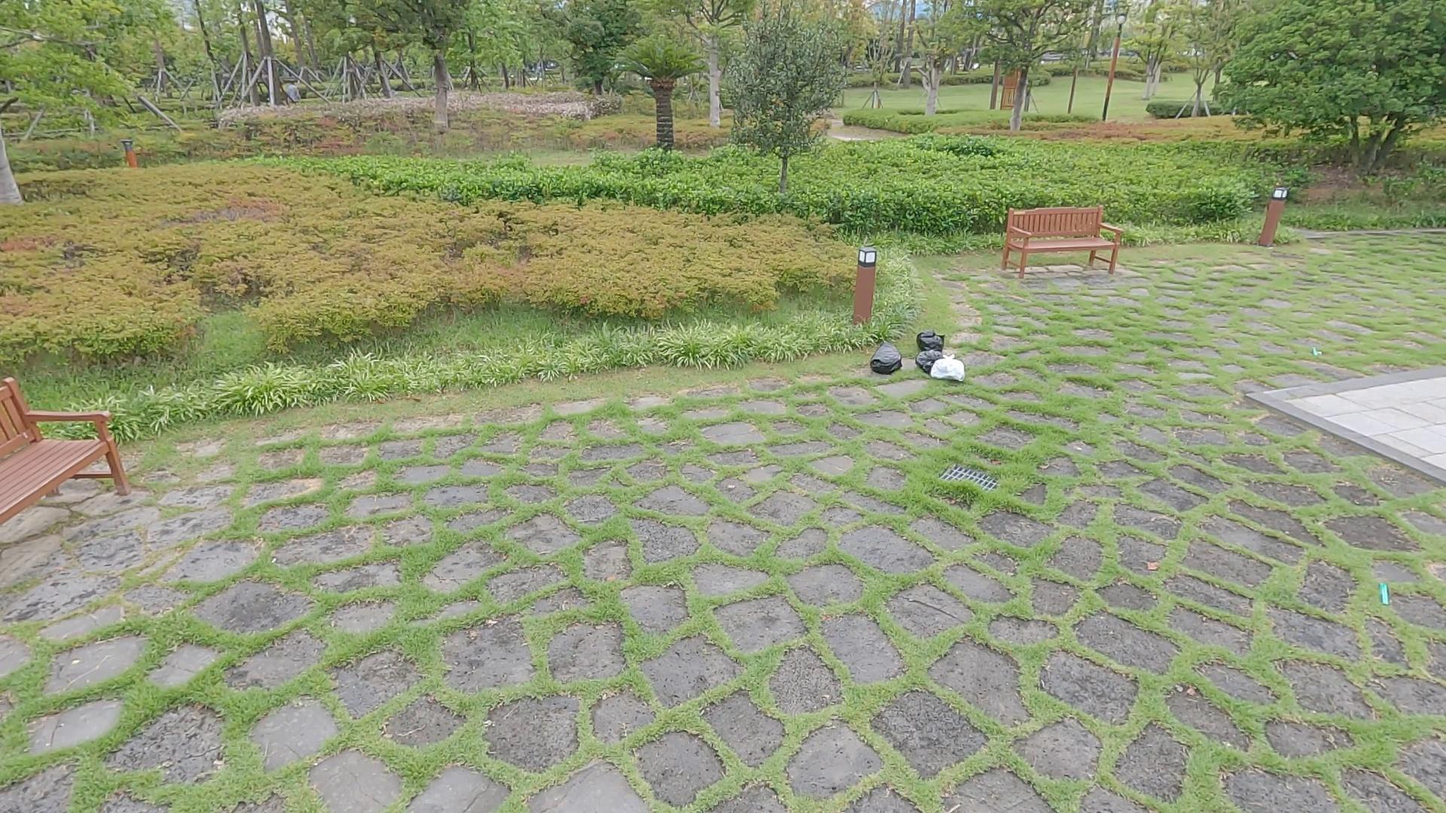trash: (929, 354, 968, 385), (871, 340, 904, 374), (913, 349, 948, 375), (915, 330, 947, 353)
